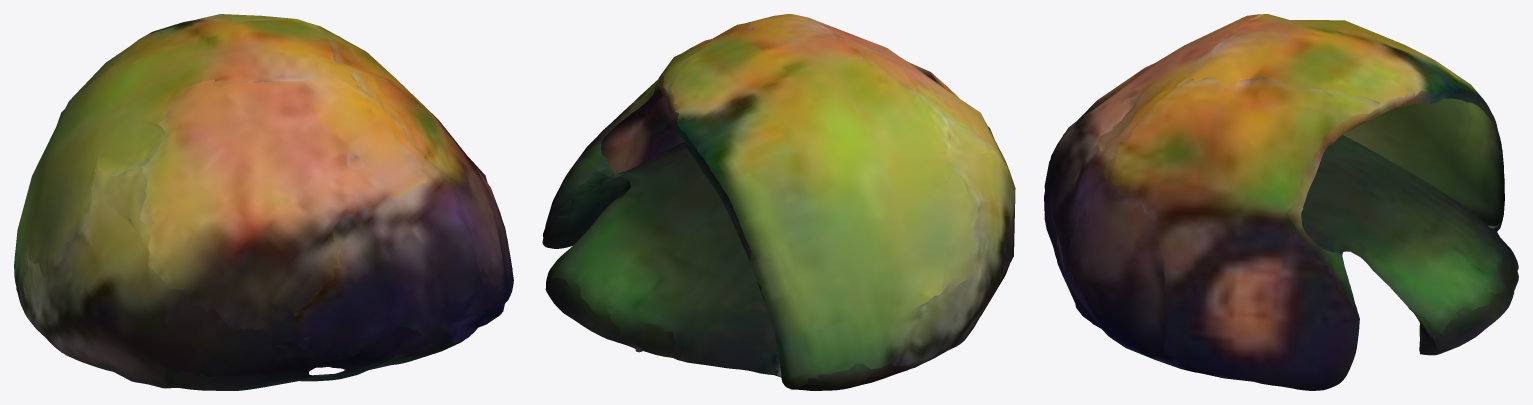
3 renders of one model, left to right at view 1: azimuth 30°, elevation 25°; view 2: azimuth 150°, elevation 25°; view 3: azimuth 270°, elevation 25°, orthographic. The views are drawn at different scales.
Visible parts, largest first — view 1: world; view 2: world; view 3: world.
Part boxes in pixels (x1=…): world: x1=14, y1=14, x2=513, y2=390; world: x1=542, y1=14, x2=1015, y2=390; world: x1=1044, y1=14, x2=1518, y2=390.
Bounding box in the file's own units: 0.8447 × 0.5008 × 0.8298.
1 material, 1 textured.
